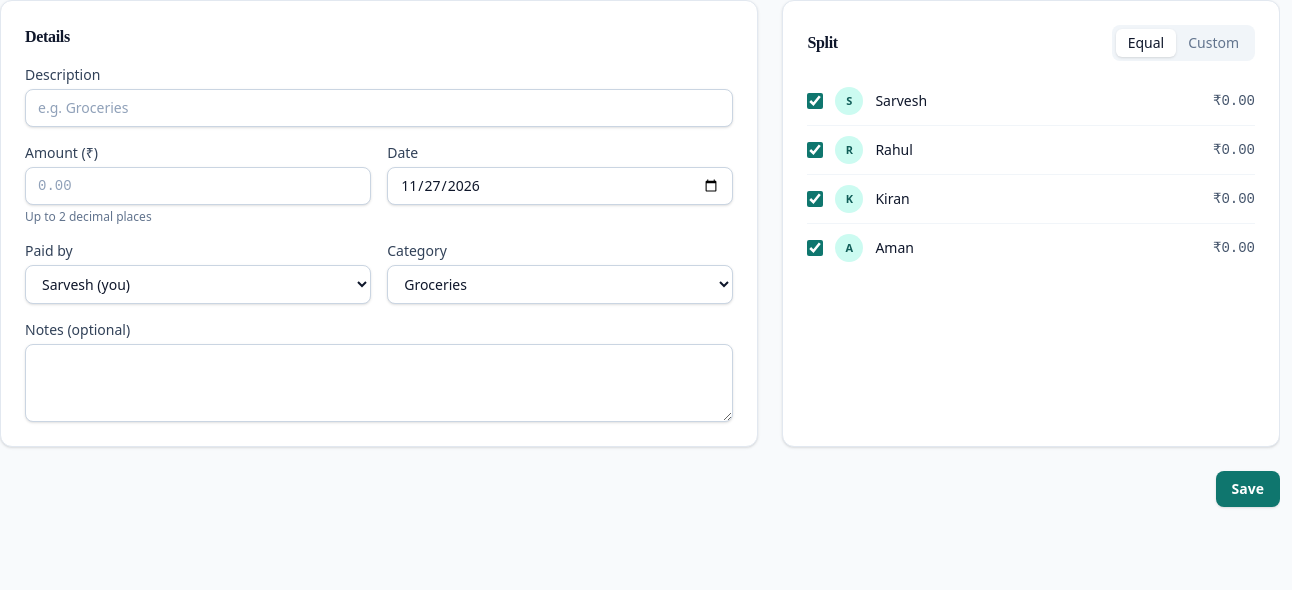
Test case: ExpenseForm › blocks a custom split whose shares do not add up
Type "Electricity" into the field labelled "Description".
click(379, 108); type("Electricity")  # box [25,89,733,127]
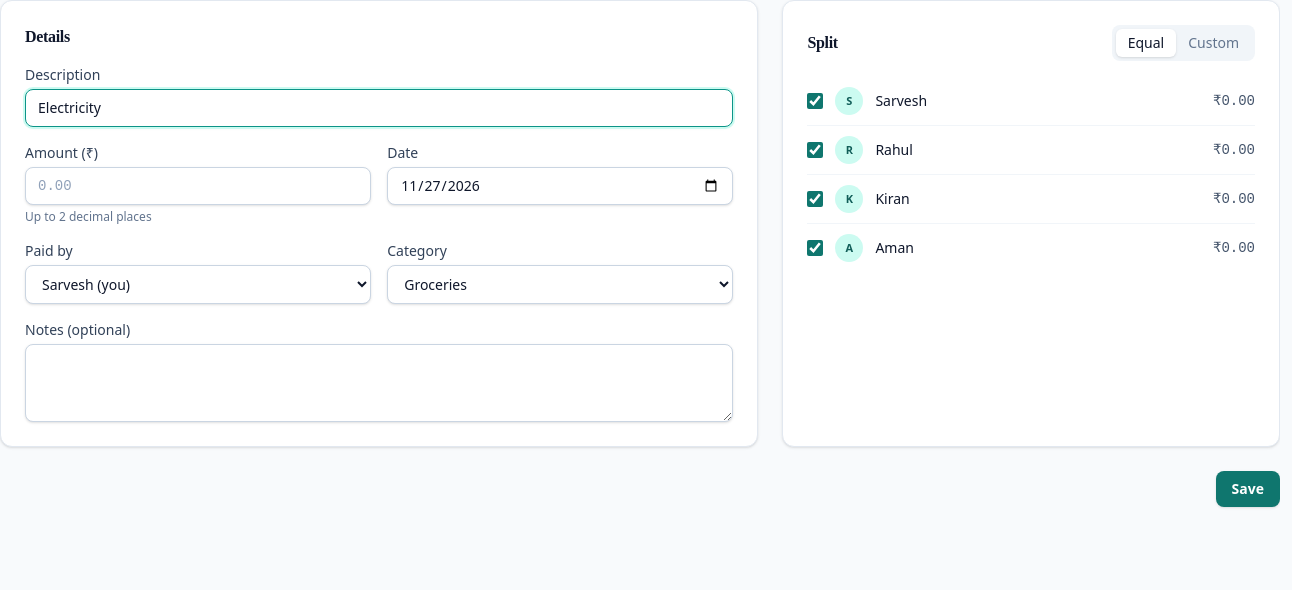
Type "1000" into the field labelled "Amount (₹)".
click(198, 186); type("1000")  # box [25,167,371,205]
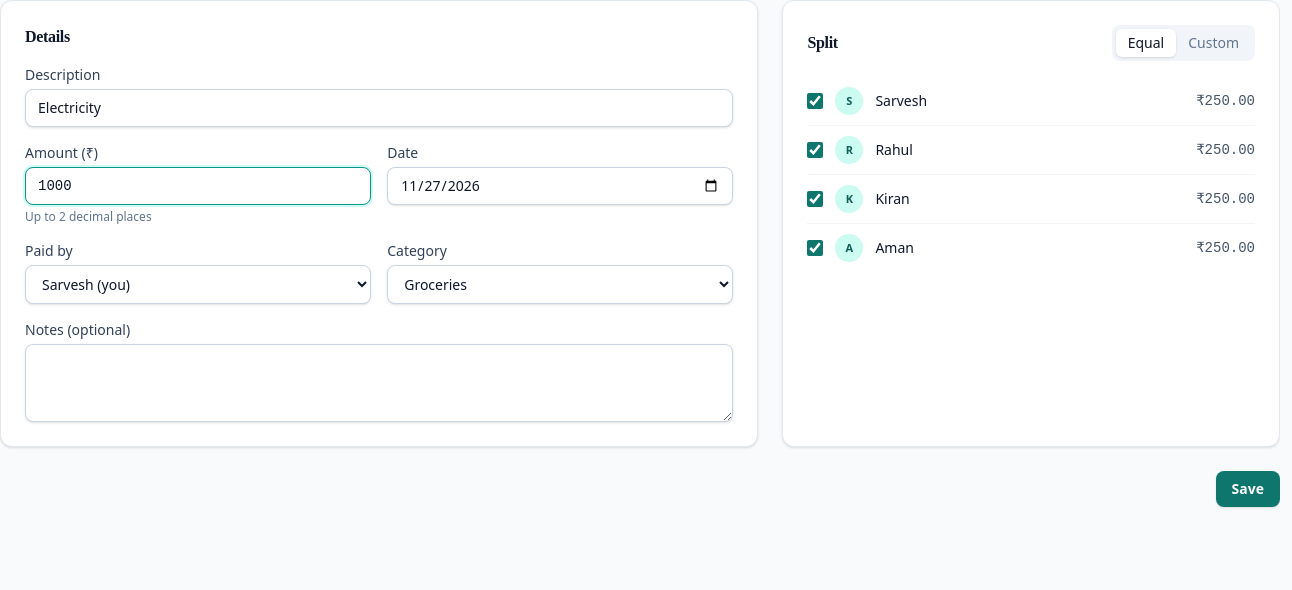
Click the radio button labelled "custom".
click(1214, 43)  # box [1176,29,1251,57]
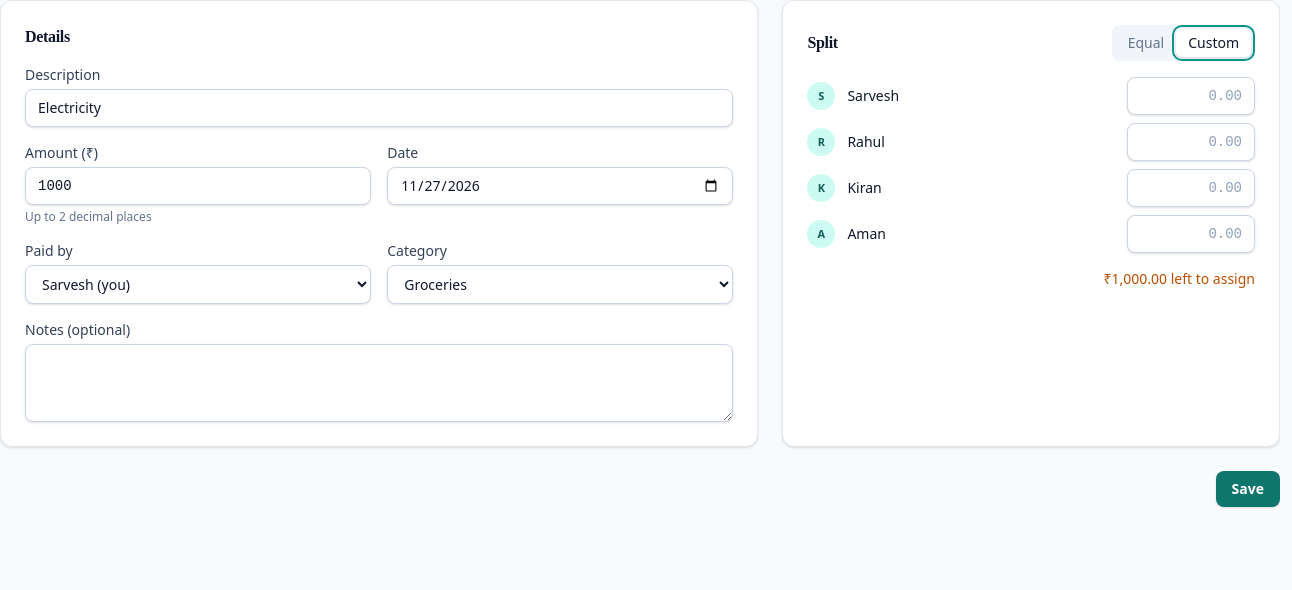
Type "400" into the field labelled "Sarvesh".
click(1191, 96); type("400")  # box [1127,77,1255,115]
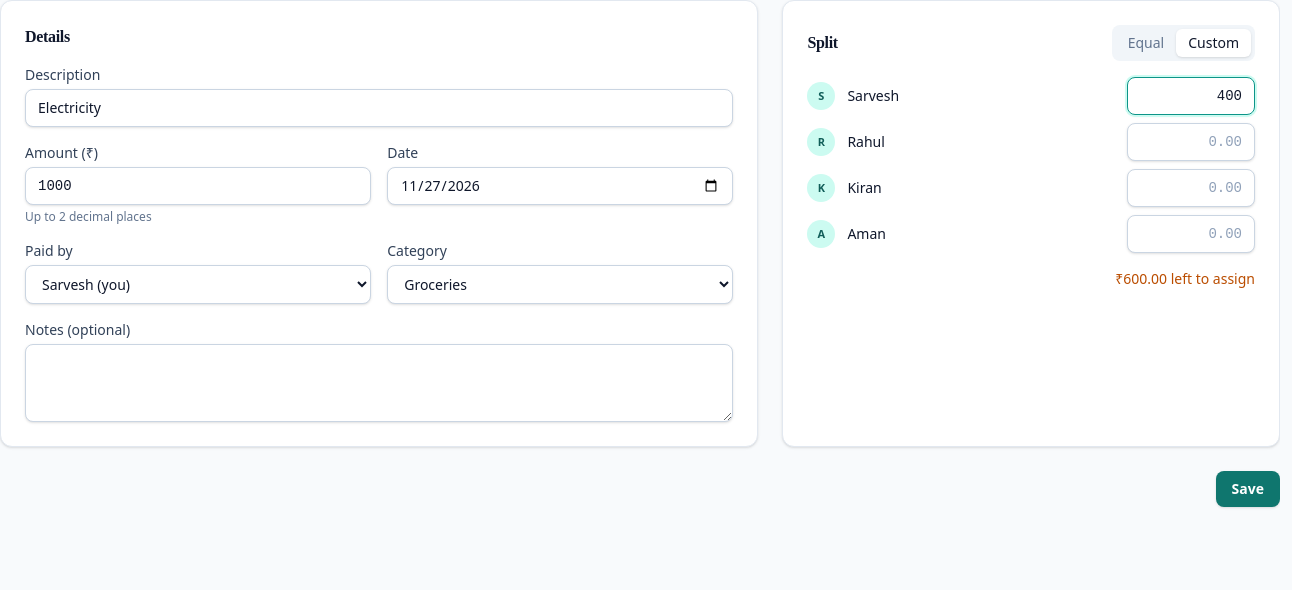
Type "300" into the field labelled "Rahul".
click(1191, 142); type("300")  # box [1127,123,1255,161]
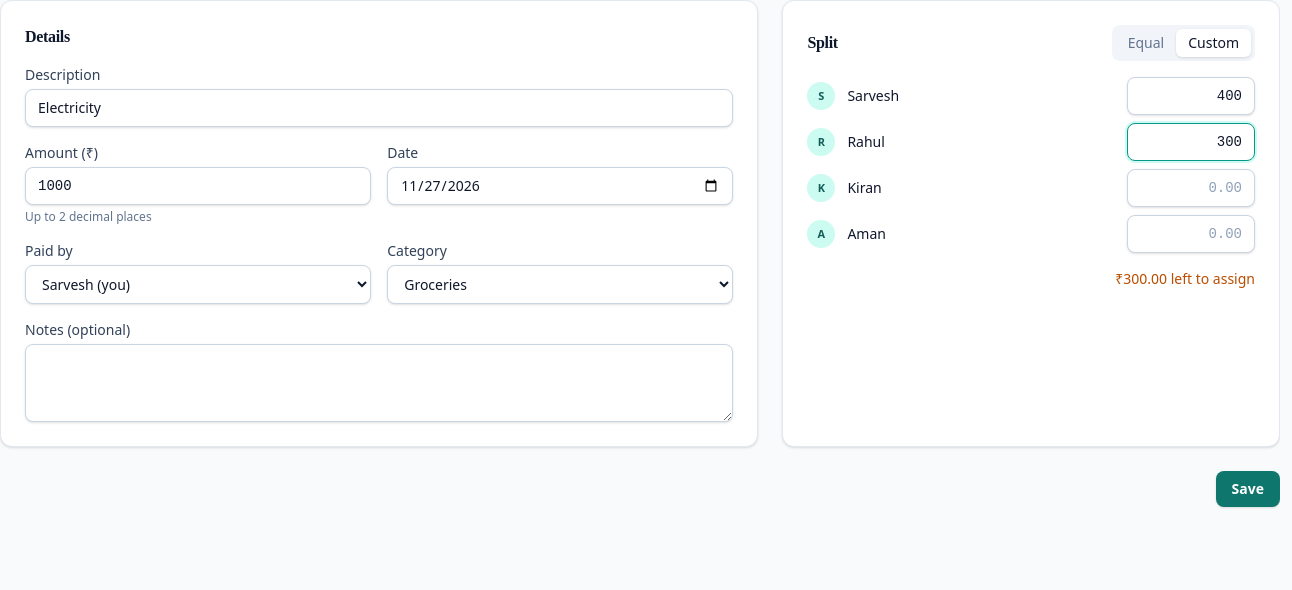
Now the text "₹300.00 left to assign" is shown, box [1115,269,1255,288]
Click the button "Save".
click(1248, 489)  # box [1216,471,1280,507]
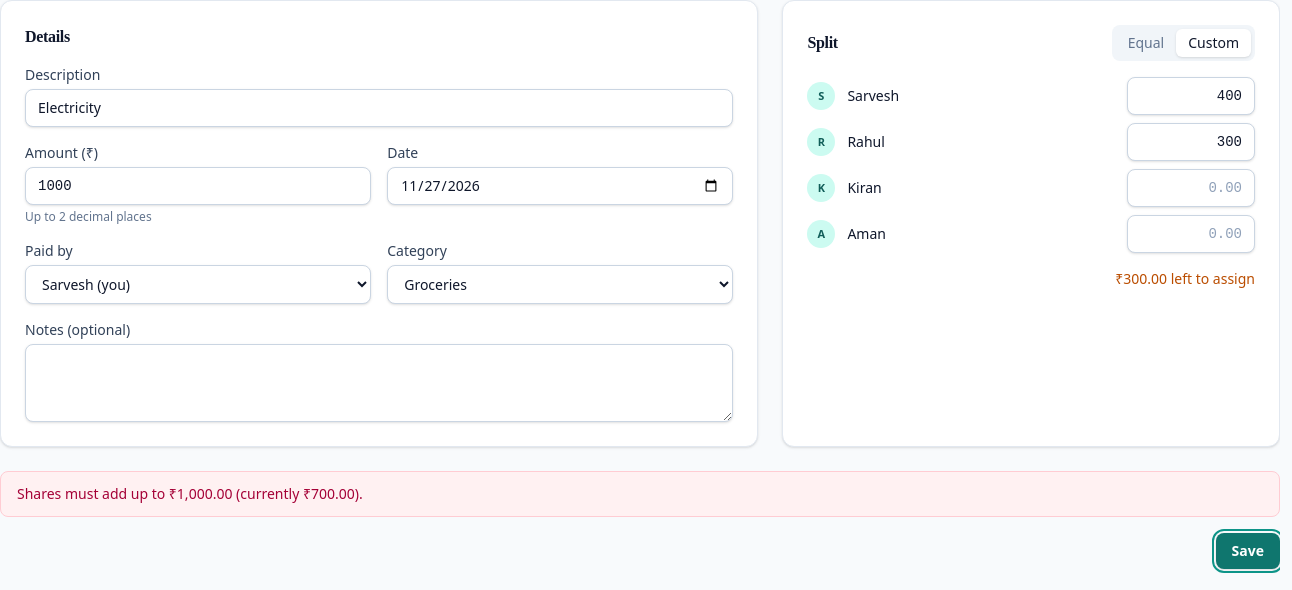
Now the message shows "Shares must add up to ₹1,000.00", box [17,484,363,503]
